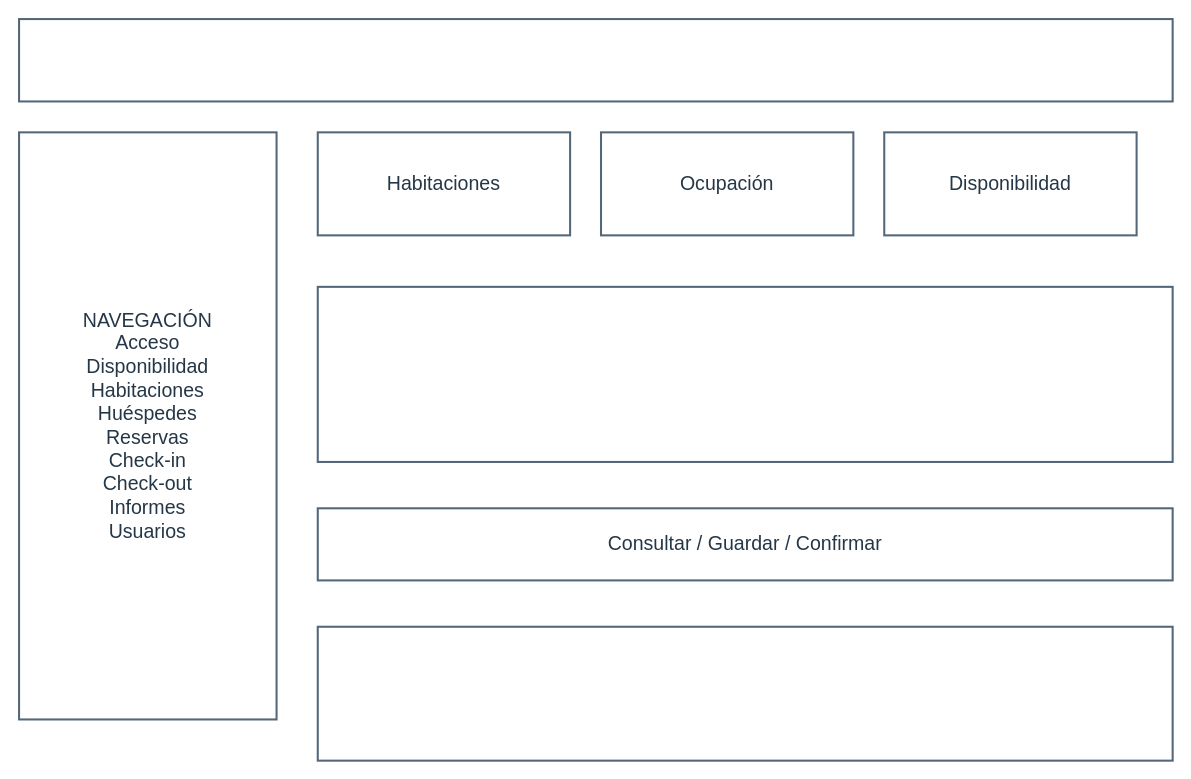
This 1191x779 diagram has some shape labels left out. Each missing label, with the box of its shape:
Hotel Duerme Bien: (18, 18, 1173, 102)
LISTADO O RESULTADO Registros, estados y acciones: (316, 625, 1173, 761)
ÁREA DE TRABAJO Campos del proceso seleccionado: (316, 285, 1173, 462)
